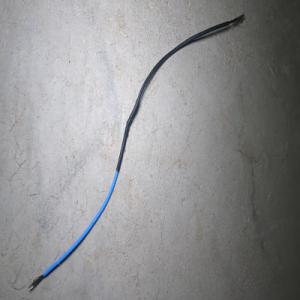Wire: (28, 12, 245, 291)
